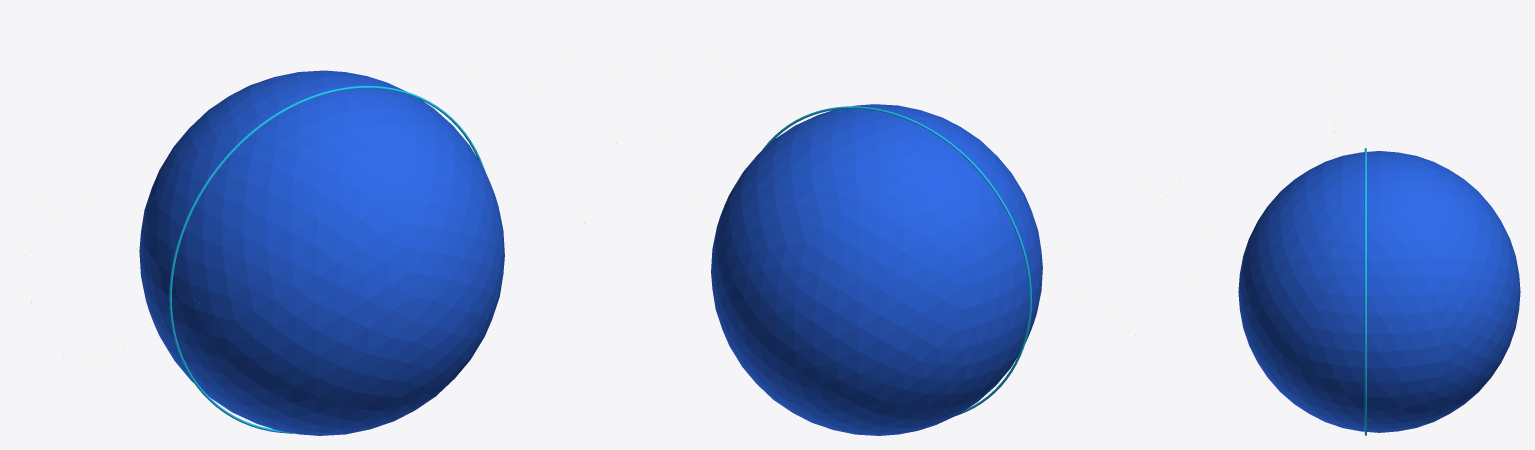
Rendered from 01_L87_PanoramicOrbitalObservationViewport.fbx.
The picture shows the model from 3 angles, left to right: view 1: azimuth 30°, elevation 25°; view 2: azimuth 150°, elevation 25°; view 3: azimuth 270°, elevation 25°; orthographic projection. The views are drawn at different scales.
Visible parts, largest first — view 1: L87_PanoramicOrbitalObservationViewport; view 2: L87_PanoramicOrbitalObservationViewport; view 3: L87_PanoramicOrbitalObservationViewport.
Boxes of the visible parts, left/top/right/bottom form: L87_PanoramicOrbitalObservationViewport: left=15, top=14, right=621, bottom=435; L87_PanoramicOrbitalObservationViewport: left=654, top=23, right=1209, bottom=435; L87_PanoramicOrbitalObservationViewport: left=1238, top=47, right=1520, bottom=435.
Size of the model in its own units: 2779 by 1632 by 1440.
